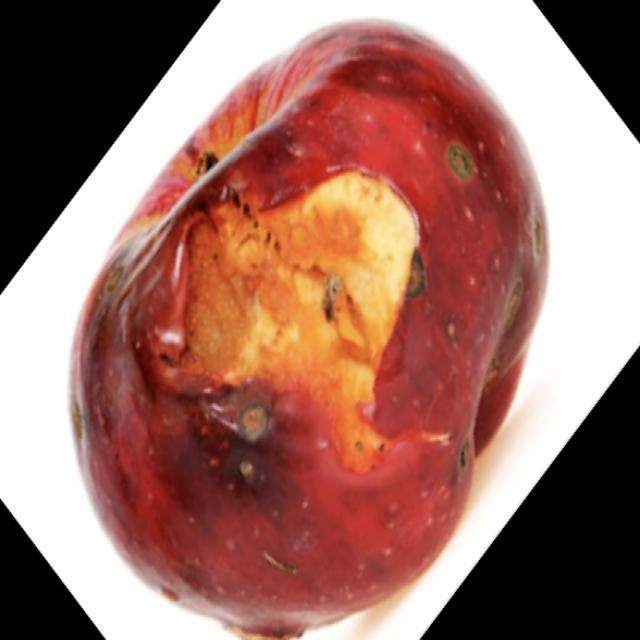Rotten: (83, 31, 541, 640)
